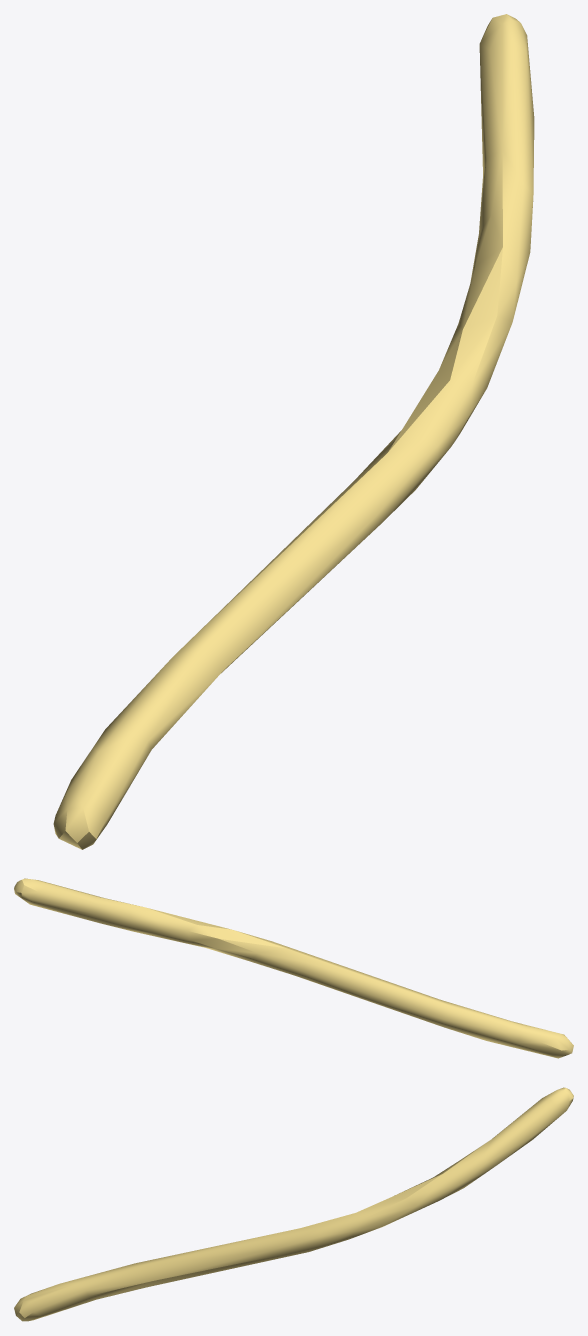
File: fma52673_fj4007.glb
3 views of the same model, one above another, from view 1: azimuth 30°, elevation 25°; view 2: azimuth 150°, elevation 25°; view 3: azimuth 330°, elevation 25° (orthographic). The views are drawn at different scales.
Parts seen in each view (by area): view 1: FMA52673_FJ4007; view 2: FMA52673_FJ4007; view 3: FMA52673_FJ4007.
Boxes of the visible parts, left/top/right/bottom form: FMA52673_FJ4007: left=53, top=14, right=534, bottom=849; FMA52673_FJ4007: left=14, top=878, right=573, bottom=1058; FMA52673_FJ4007: left=14, top=1087, right=573, bottom=1321.
Bounding box in the file's own units: 0.00822 × 0.00407 × 0.00627.
